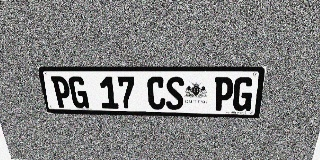1: (98, 76, 119, 109)
7: (116, 76, 136, 109)
C: (147, 77, 166, 110)
G: (232, 77, 255, 111), (68, 76, 89, 108)
P: (213, 77, 234, 111), (51, 76, 73, 108)
S: (166, 77, 184, 110)
